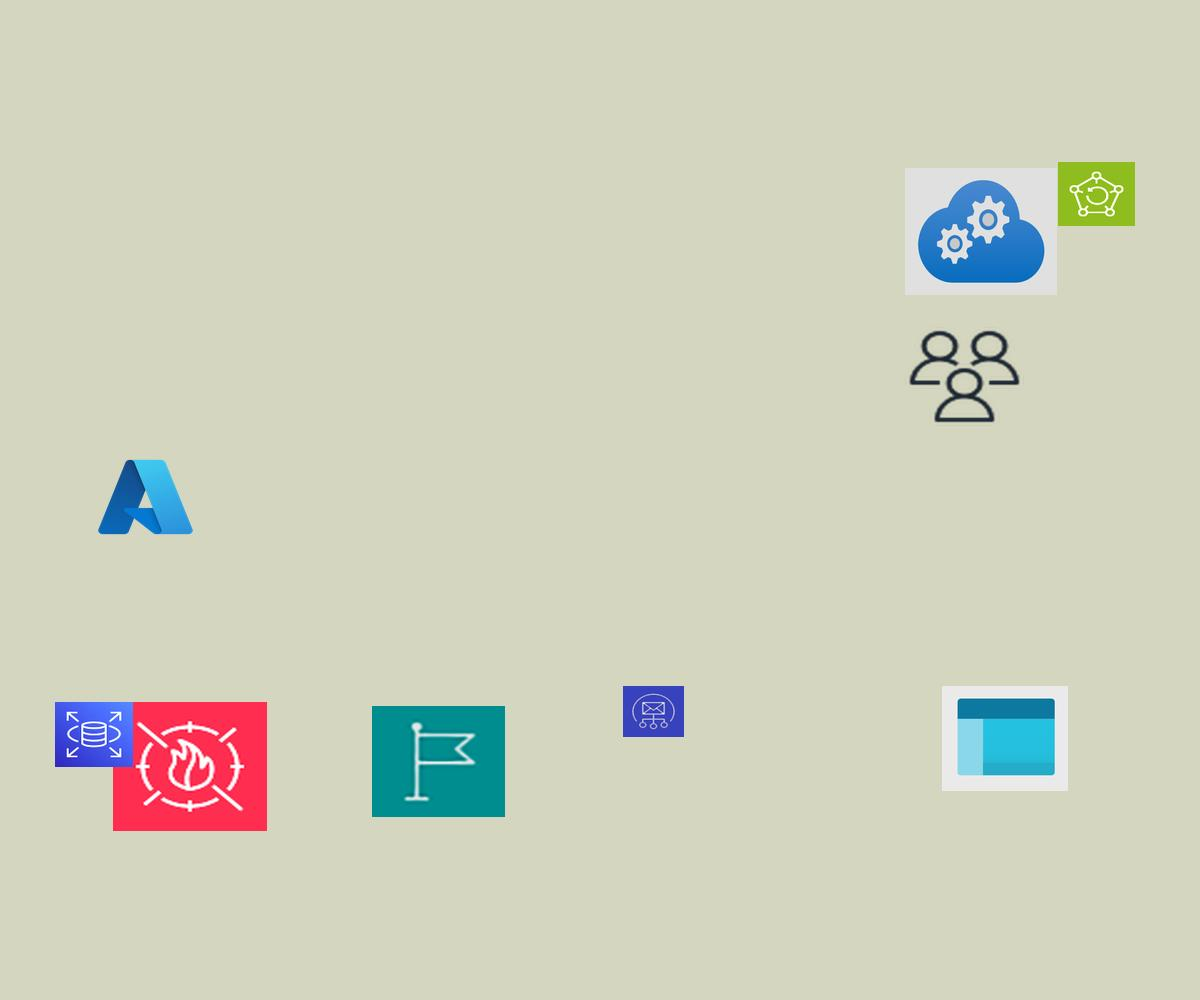AWS-Backup: (1058, 162, 1135, 226)
AWS-RDS: (55, 702, 133, 767)
AWS-Region: (372, 706, 505, 817)
AWS-Res_Users: (905, 327, 1024, 426)
AWS-Simple-Email-Service: (623, 686, 684, 737)
AWS-WAF: (113, 702, 267, 831)
Azure_cloud_services: (905, 168, 1057, 295)
Azure_management-portal: (942, 686, 1068, 791)
Azure_services: (94, 454, 197, 540)
